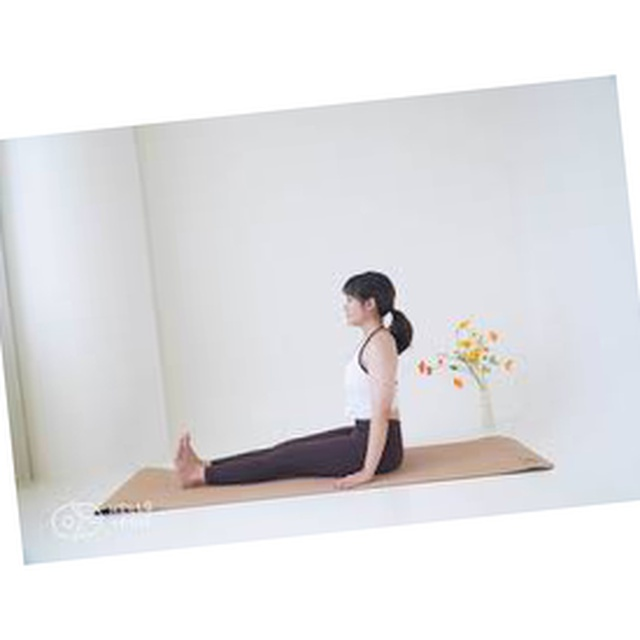Staff_Pose: (175, 269, 414, 489)
